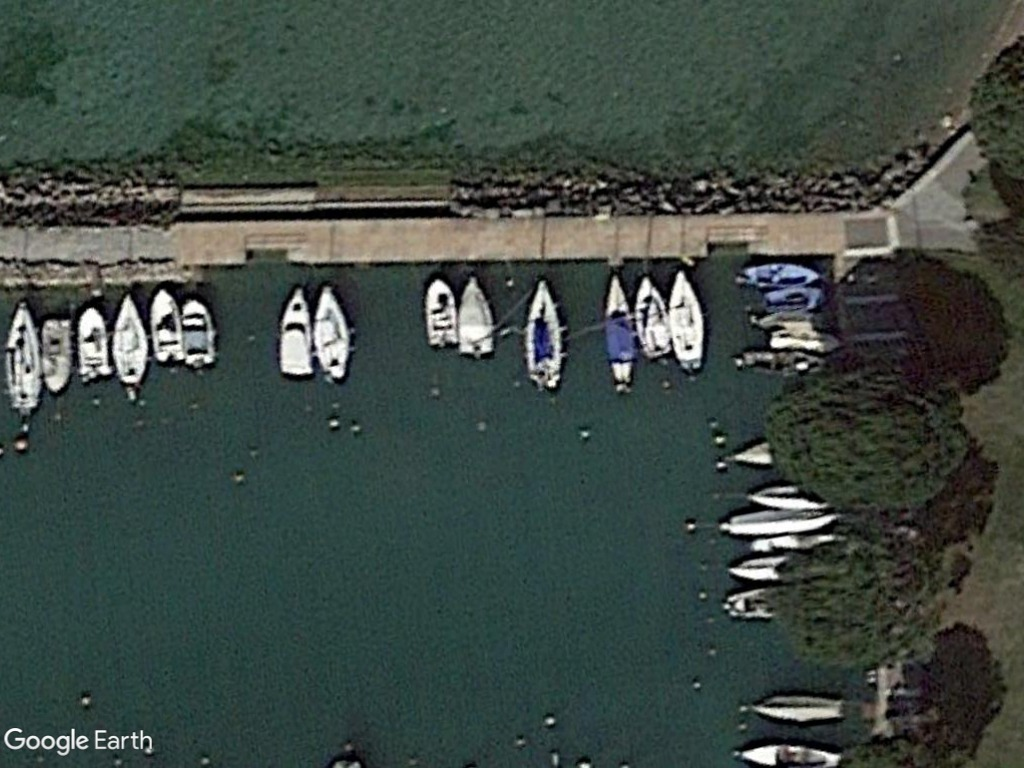boat: (518, 272, 571, 394), (597, 271, 640, 392), (0, 298, 43, 416), (666, 264, 708, 373), (272, 280, 316, 381), (742, 684, 845, 725), (632, 270, 674, 366), (314, 280, 350, 387), (453, 272, 493, 361), (729, 738, 841, 768), (418, 273, 461, 350), (75, 301, 113, 387), (147, 283, 185, 369), (176, 289, 213, 372), (114, 288, 144, 390), (38, 313, 73, 399), (735, 259, 825, 288)
